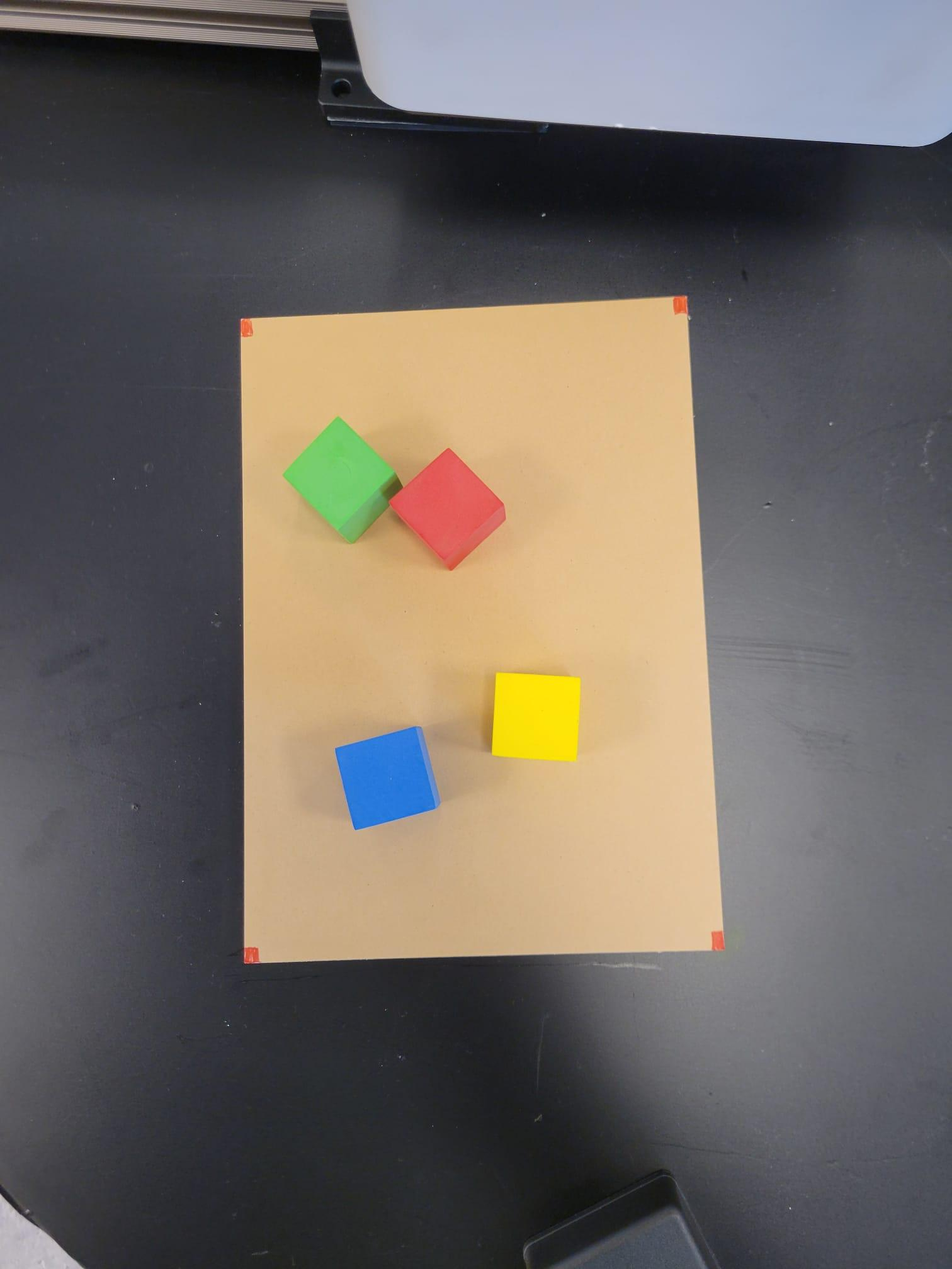cube: (392, 452, 512, 573), (285, 415, 398, 543), (338, 725, 442, 832), (488, 674, 582, 762)
